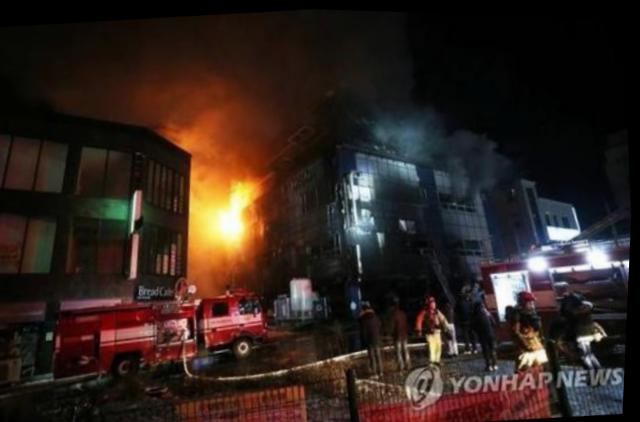fire: (209, 180, 258, 243)
